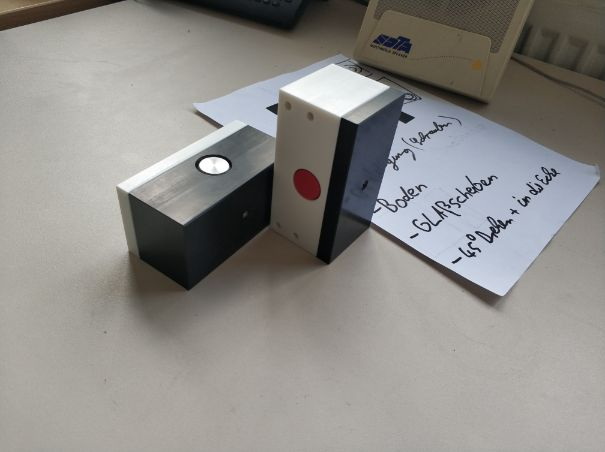black+white+red: (268, 61, 406, 263)
white+black+silver: (113, 118, 280, 295)
